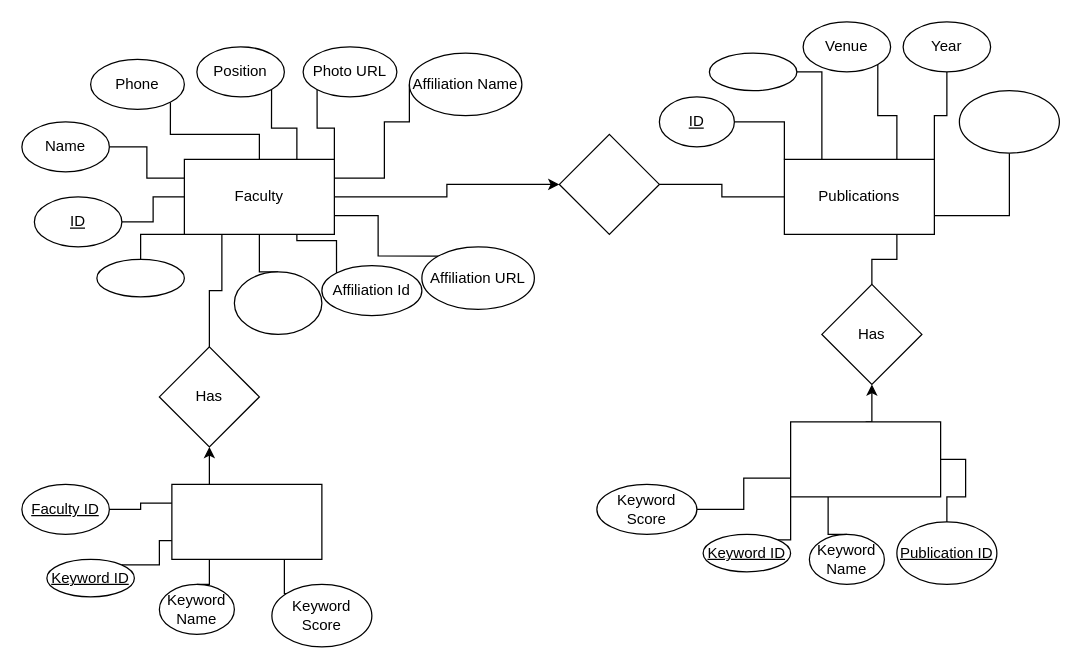
Some shapes in this 1081 by 669 pixel diagram are drawn without their labels. Each missing label, with the centre of its shape:
Email: the point at 140,277
Faculty Keywords: the point at 246,521
numCitations: the point at 1008,121
Publication Keywords: the point at 865,459
Research Interest: the point at 277,302
Title: the point at 752,71
Writes: the point at 608,183
